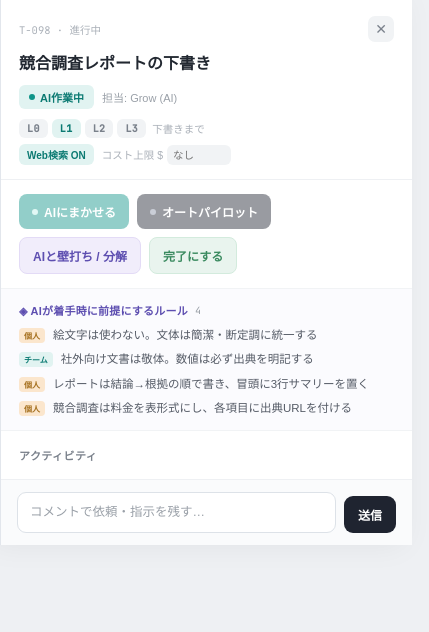
it: 楽観的更新とロールバック（§5.4） › 送信直後に即UI反映され、API 成功でサーバ確定版に差し替わる
Type "ありがとうございます" into the text box with placeholder "コメントで依頼・指示を残す…" at (176, 513), box [17,492,336,533]
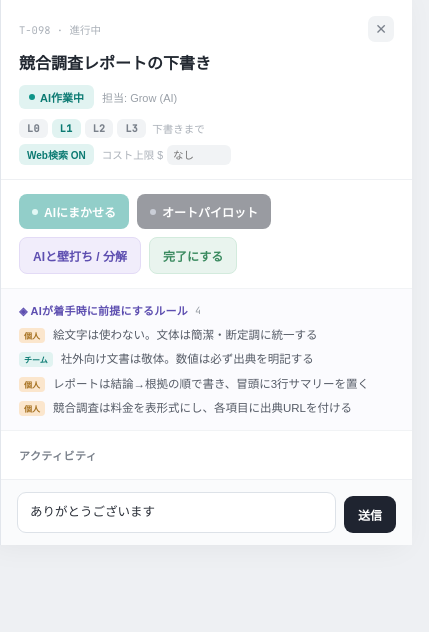
Press Enter in the text box with placeholder "コメントで依頼・指示を残す…", box [17,492,336,533]
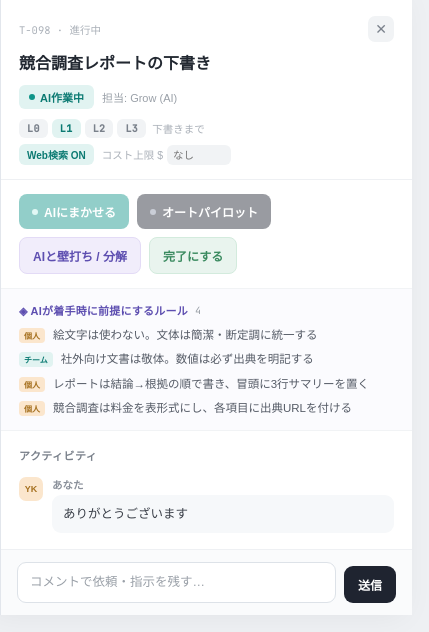
Expected: the text "ありがとうございます" is shown, [52,495,394,533]
